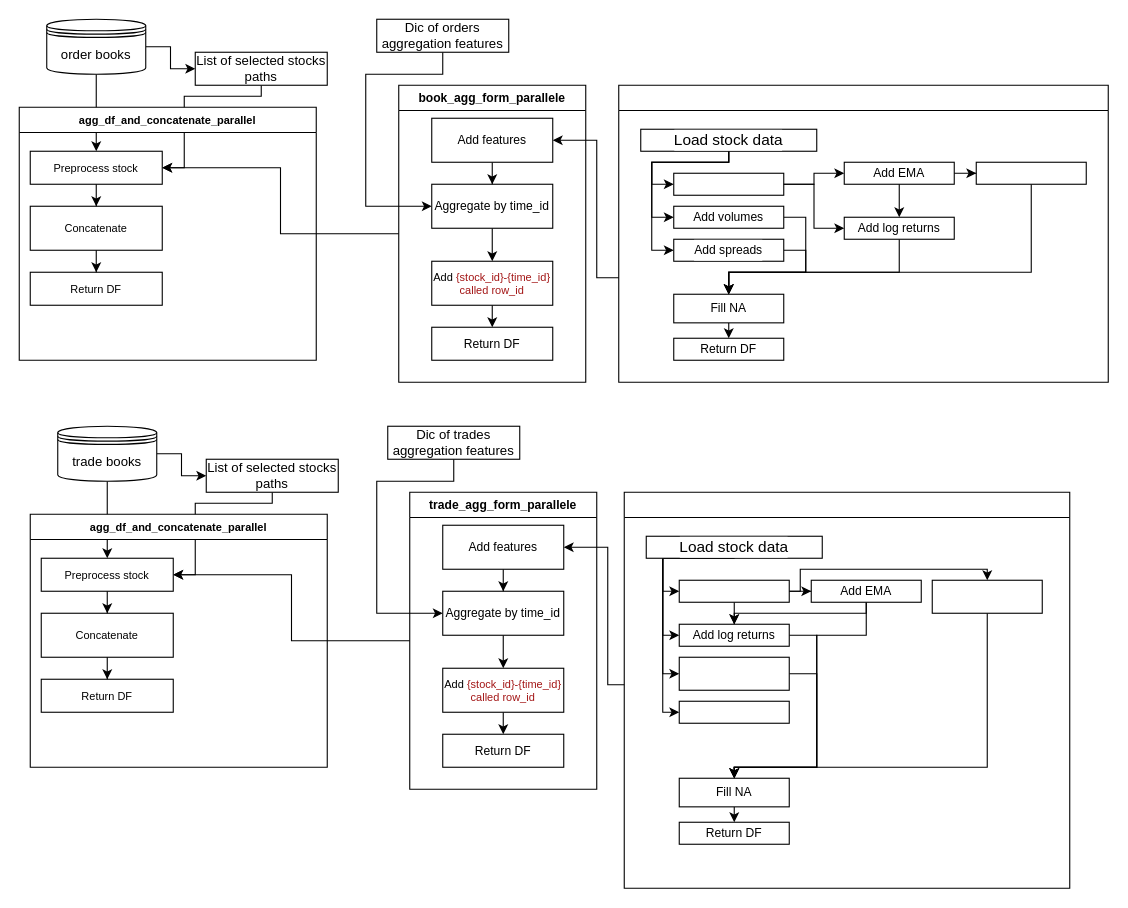
This 1128x908 diagram has some shape labels left out. Here are the shapes that lost their labels. From the top down, the box of each, then its label:
(673, 172, 784, 195): Add wap
(975, 161, 1086, 184): Add diff Wap - EMA
(618, 84, 1108, 382): book_feature_eng_per_stock
(678, 579, 789, 602): Add amount
(931, 579, 1042, 613): Add amount per order
(678, 656, 789, 690): Add sec diff between trades
(623, 491, 1070, 888): trade_feature_eng_per_stock
(678, 700, 789, 723): Add power
